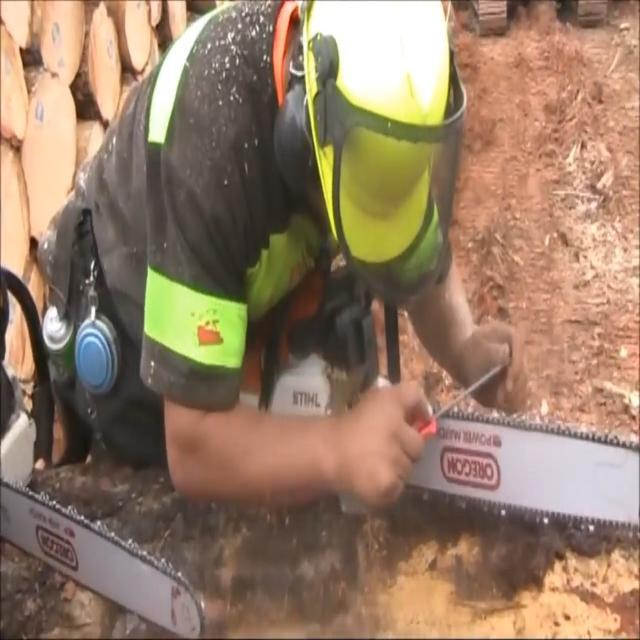Chainsaw: (230, 249, 640, 557), (0, 272, 206, 640)
